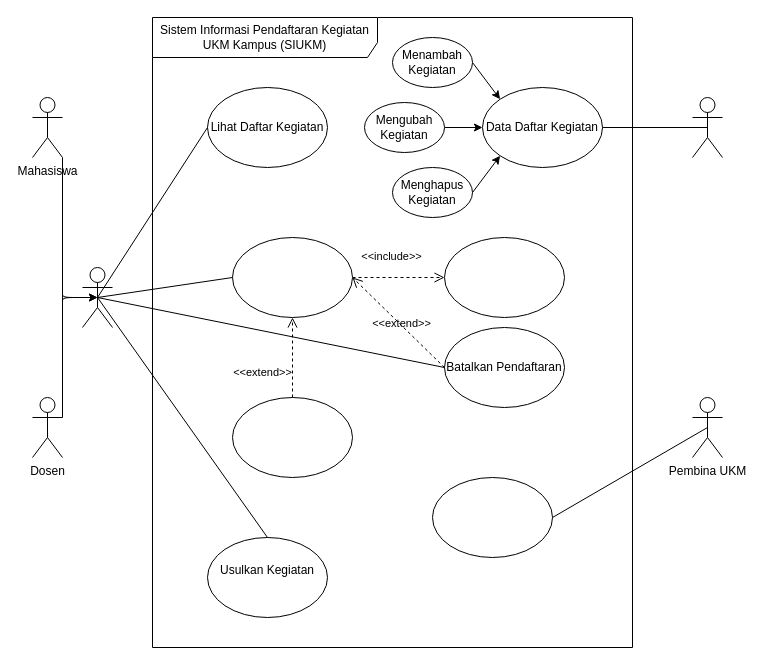
The diagram is 765 pixels wide and 665 high, and some of its shapes have lost their labels. Each missing label, with the centre of its shape:
Cetak Kartu Peserta: (292,437)
Daftar Kegiatan: (292,277)
Pengurus UKM: (707,127)
Periksa Total Peserta: (504,277)
Peserta: (97,297)
Setujui Usulan Kegiatan: (492,517)
